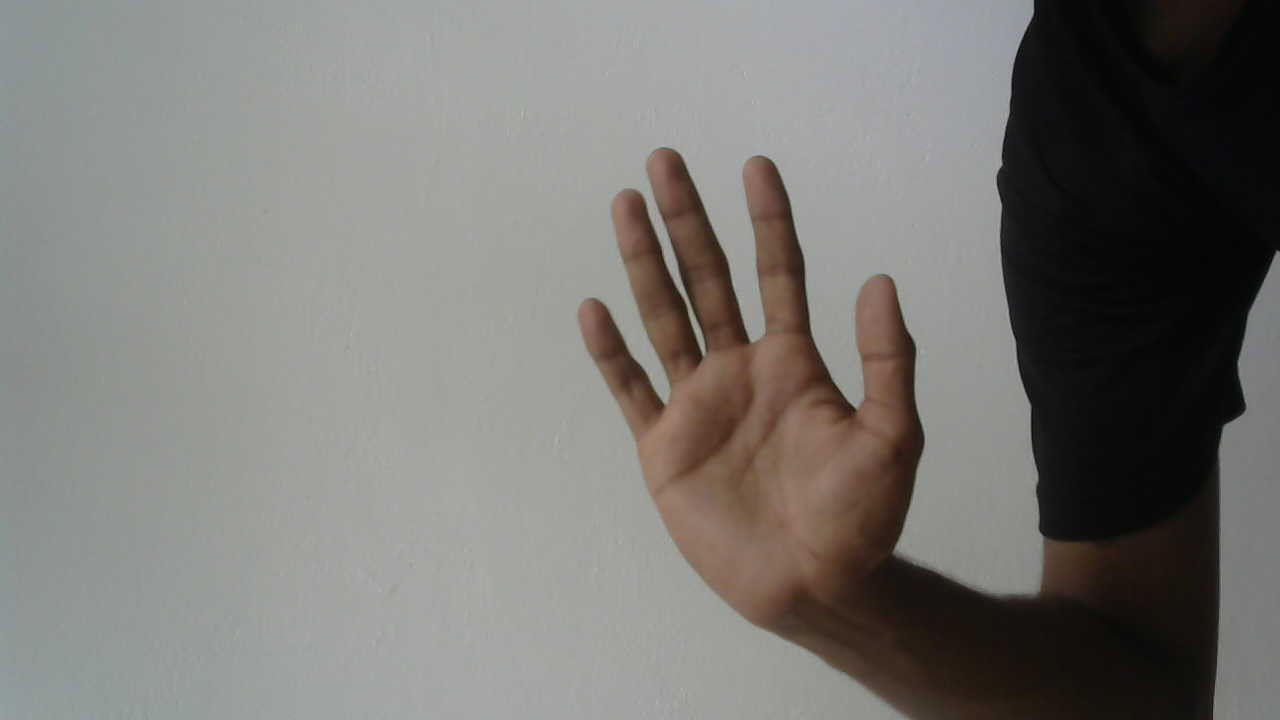hello: (562, 139, 941, 632)
